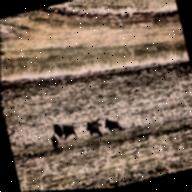boar: (100, 109, 130, 144), (84, 115, 103, 146), (47, 128, 62, 153), (61, 122, 79, 140), (51, 119, 62, 135)
